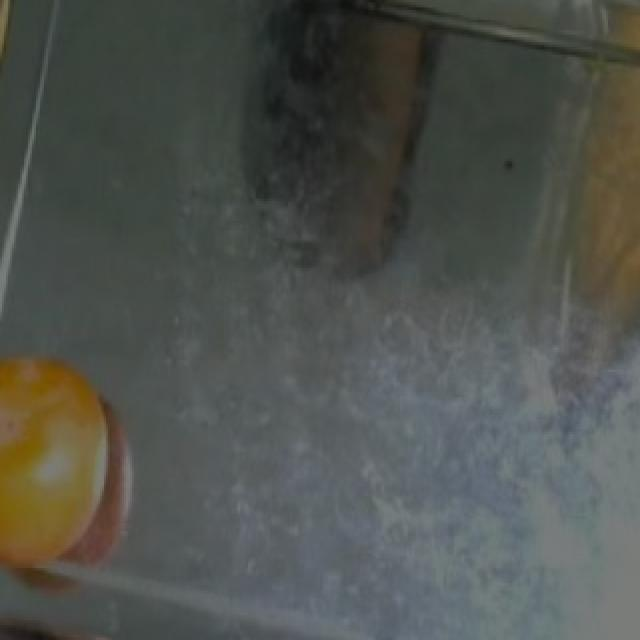Fruit: (0, 337, 132, 618)
